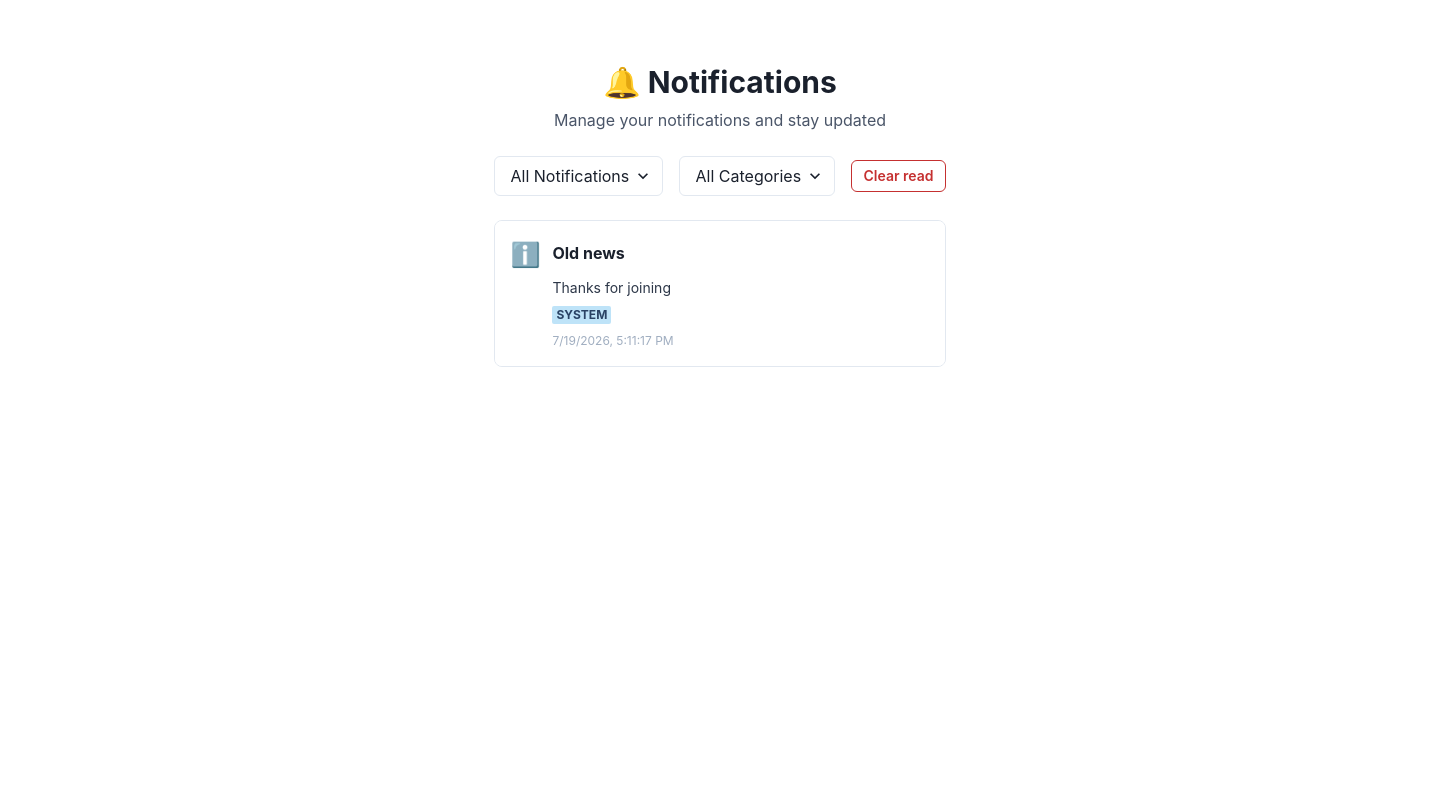
Test case: Notifications page › clears read notifications via the confirm dialog
expect the text "Old news" is shown: met, box [552,241,625,265]
Click the button "Clear read" at (898, 176), box [850,160,946,192]
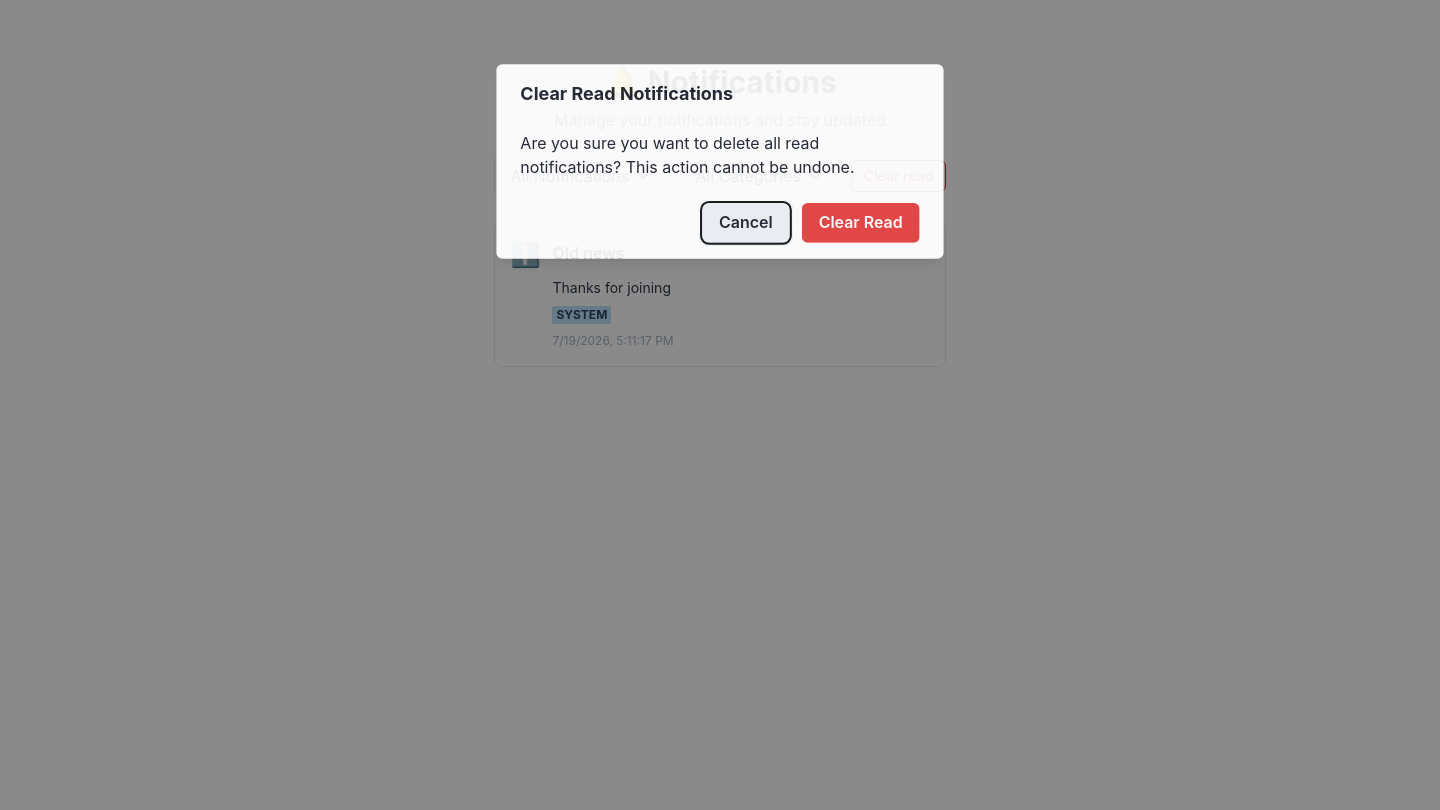
Click the button "Clear Read" at (861, 223), box [802,203,920,243]
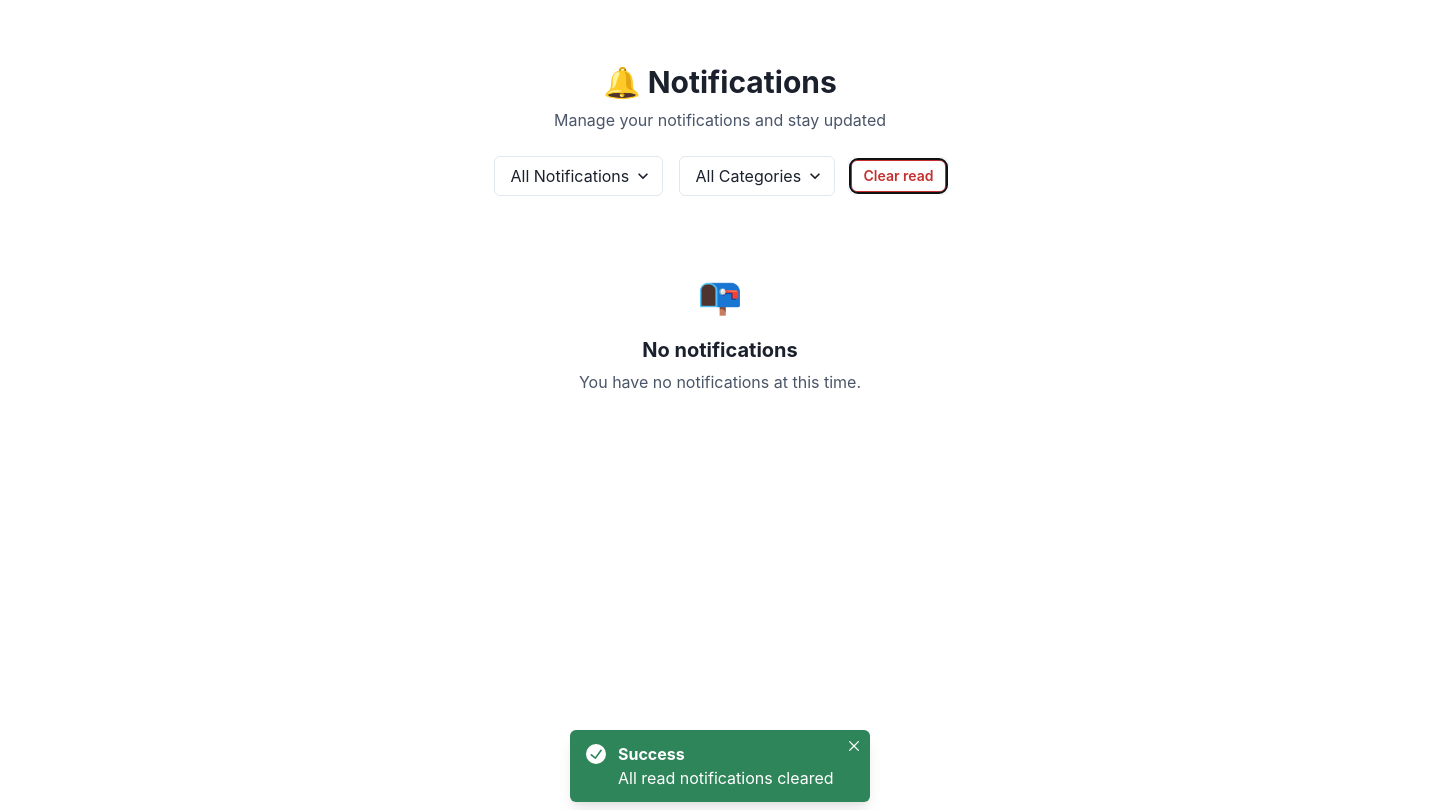
expect the text "All read notifications cleared" is shown: met, box [618,766,838,790]
